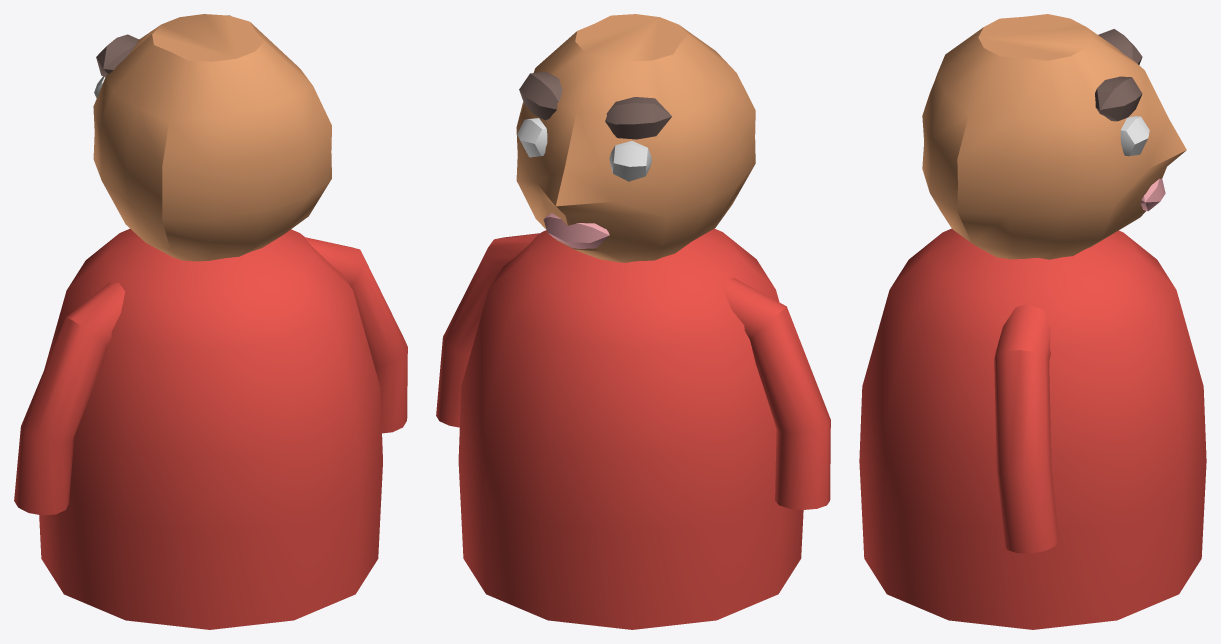
Rendered from customer_model.fbx.
3 views of the same model, side by side, from view 1: azimuth 30°, elevation 25°; view 2: azimuth 150°, elevation 25°; view 3: azimuth 270°, elevation 25° (orthographic).
Visible parts, largest first — view 1: Customer; view 2: Customer; view 3: Customer.
Part boxes in pixels (box(x1,y1,x2,y2)): Customer: box(14, 14, 407, 629); Customer: box(436, 14, 830, 629); Customer: box(859, 14, 1206, 629).
Bounding box in the file's own units: 742 × 957 × 578.
